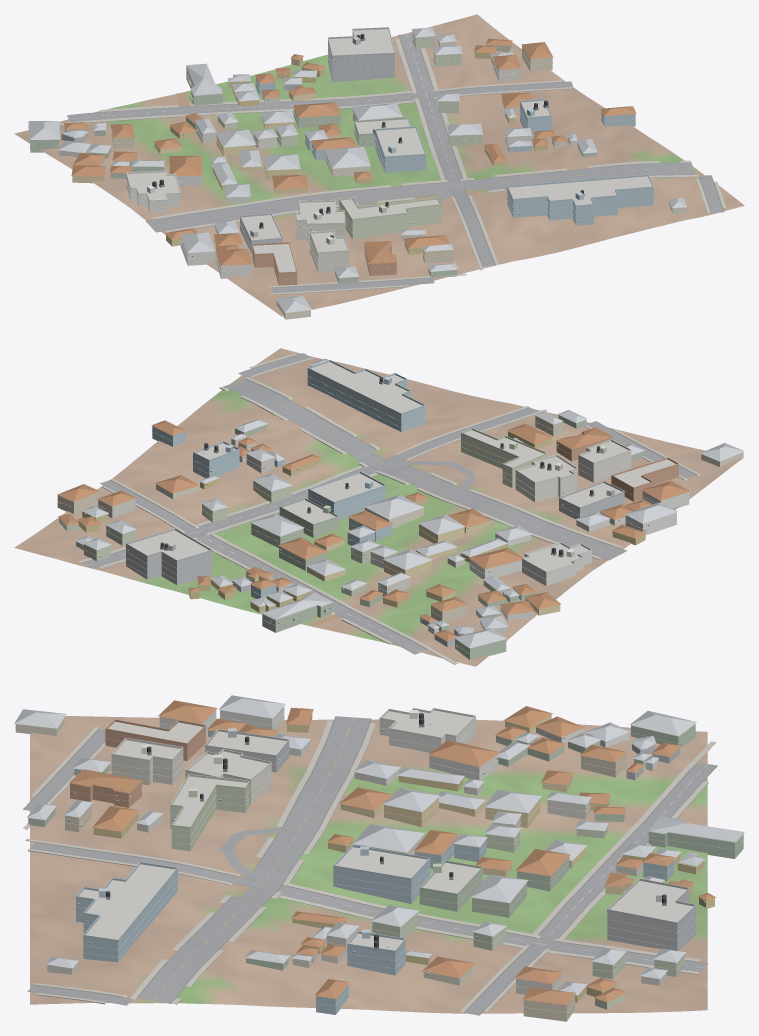
3 renders of one model, top to bottom at view 1: azimuth 30°, elevation 25°; view 2: azimuth 150°, elevation 25°; view 3: azimuth 270°, elevation 25°, orthographic. The views are drawn at different scales.
Visible parts, largest first — view 1: Buildings-col, Terrain-col, Roads-col, Details, Sidewalks-col; view 2: Buildings-col, Terrain-col, Roads-col, Details, Sidewalks-col; view 3: Buildings-col, Terrain-col, Roads-col, Details, Sidewalks-col.
Part boxes in pixels (left/top/right/bottom): Buildings-col: left=28, top=27, right=686, bottom=319; Terrain-col: left=14, top=14, right=744, bottom=316; Roads-col: left=67, top=34, right=723, bottom=293; Details: left=29, top=27, right=653, bottom=281; Sidewalks-col: left=28, top=38, right=726, bottom=294; Buildings-col: left=57, top=358, right=744, bottom=659; Terrain-col: left=14, top=348, right=742, bottom=666; Roads-col: left=82, top=353, right=696, bottom=654; Details: left=58, top=360, right=689, bottom=654; Sidewalks-col: left=79, top=353, right=700, bottom=664; Buildings-col: left=14, top=695, right=744, bottom=1021; Terrain-col: left=30, top=716, right=707, bottom=1013; Roads-col: left=23, top=716, right=717, bottom=1015; Details: left=64, top=708, right=743, bottom=1014; Sidewalks-col: left=23, top=720, right=716, bottom=1012.
Size of the model in its own units: 271 by 19.44 by 276.
